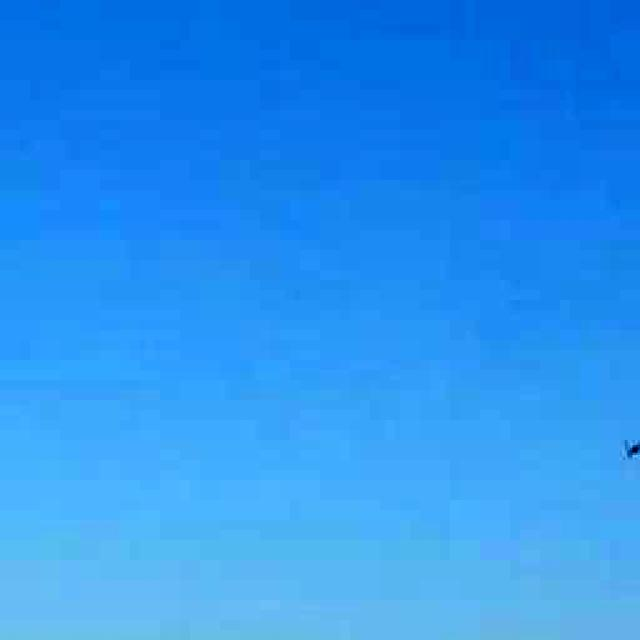bird: (602, 420, 640, 472)
